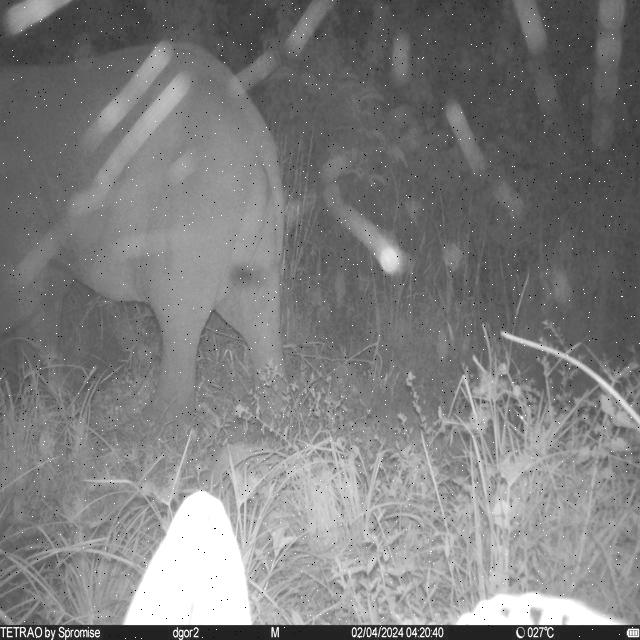elephant: (0, 42, 290, 421)
